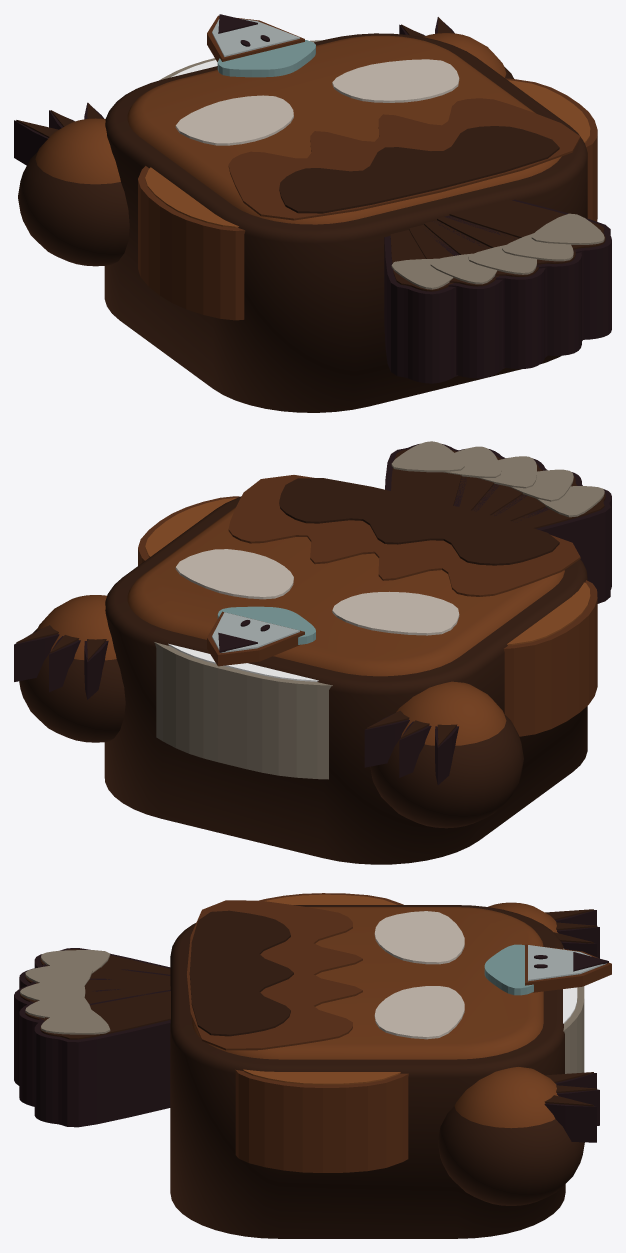
Rendered from body_falcao.fbx.
The picture shows the model from 3 angles, top to bottom: view 1: azimuth 30°, elevation 25°; view 2: azimuth 150°, elevation 25°; view 3: azimuth 270°, elevation 25°; orthographic projection. The views are drawn at different scales.
Visible parts, largest first — view 1: body_falcao_corpo, body_falcao_mao_esq, body_falcao_mao; view 2: body_falcao_corpo, body_falcao_mao_esq, body_falcao_mao; view 3: body_falcao_corpo, body_falcao_mao, body_falcao_mao_esq.
Part boxes in pixels (x1=…): body_falcao_corpo: x1=104, y1=14, x2=611, y2=412; body_falcao_mao_esq: x1=14, y1=102, x2=129, y2=266; body_falcao_mao: x1=399, y1=17, x2=513, y2=78; body_falcao_corpo: x1=104, y1=441, x2=611, y2=864; body_falcao_mao_esq: x1=364, y1=681, x2=523, y2=828; body_falcao_mao: x1=14, y1=595, x2=125, y2=742; body_falcao_corpo: x1=14, y1=893, x2=611, y2=1238; body_falcao_mao: x1=438, y1=1067, x2=599, y2=1205; body_falcao_mao_esq: x1=488, y1=902, x2=599, y2=958.
Bounding box in the file's own units: 5.4 × 2.17 × 6.05.
1 material, 1 textured.
